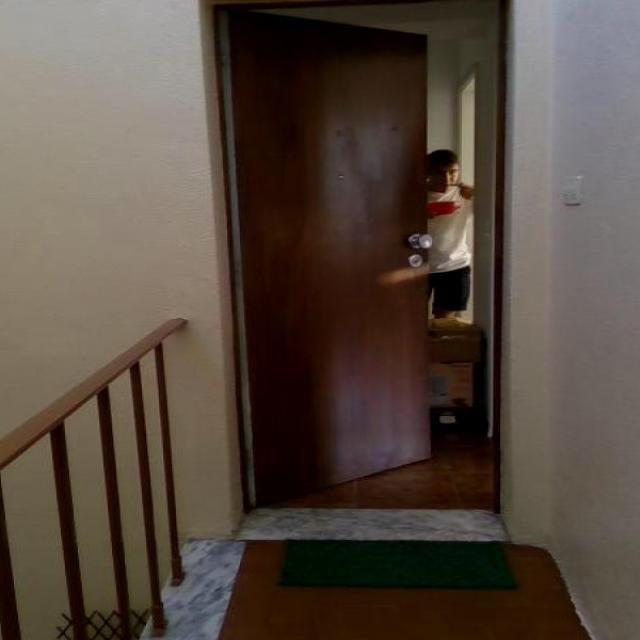door: (221, 10, 434, 507)
